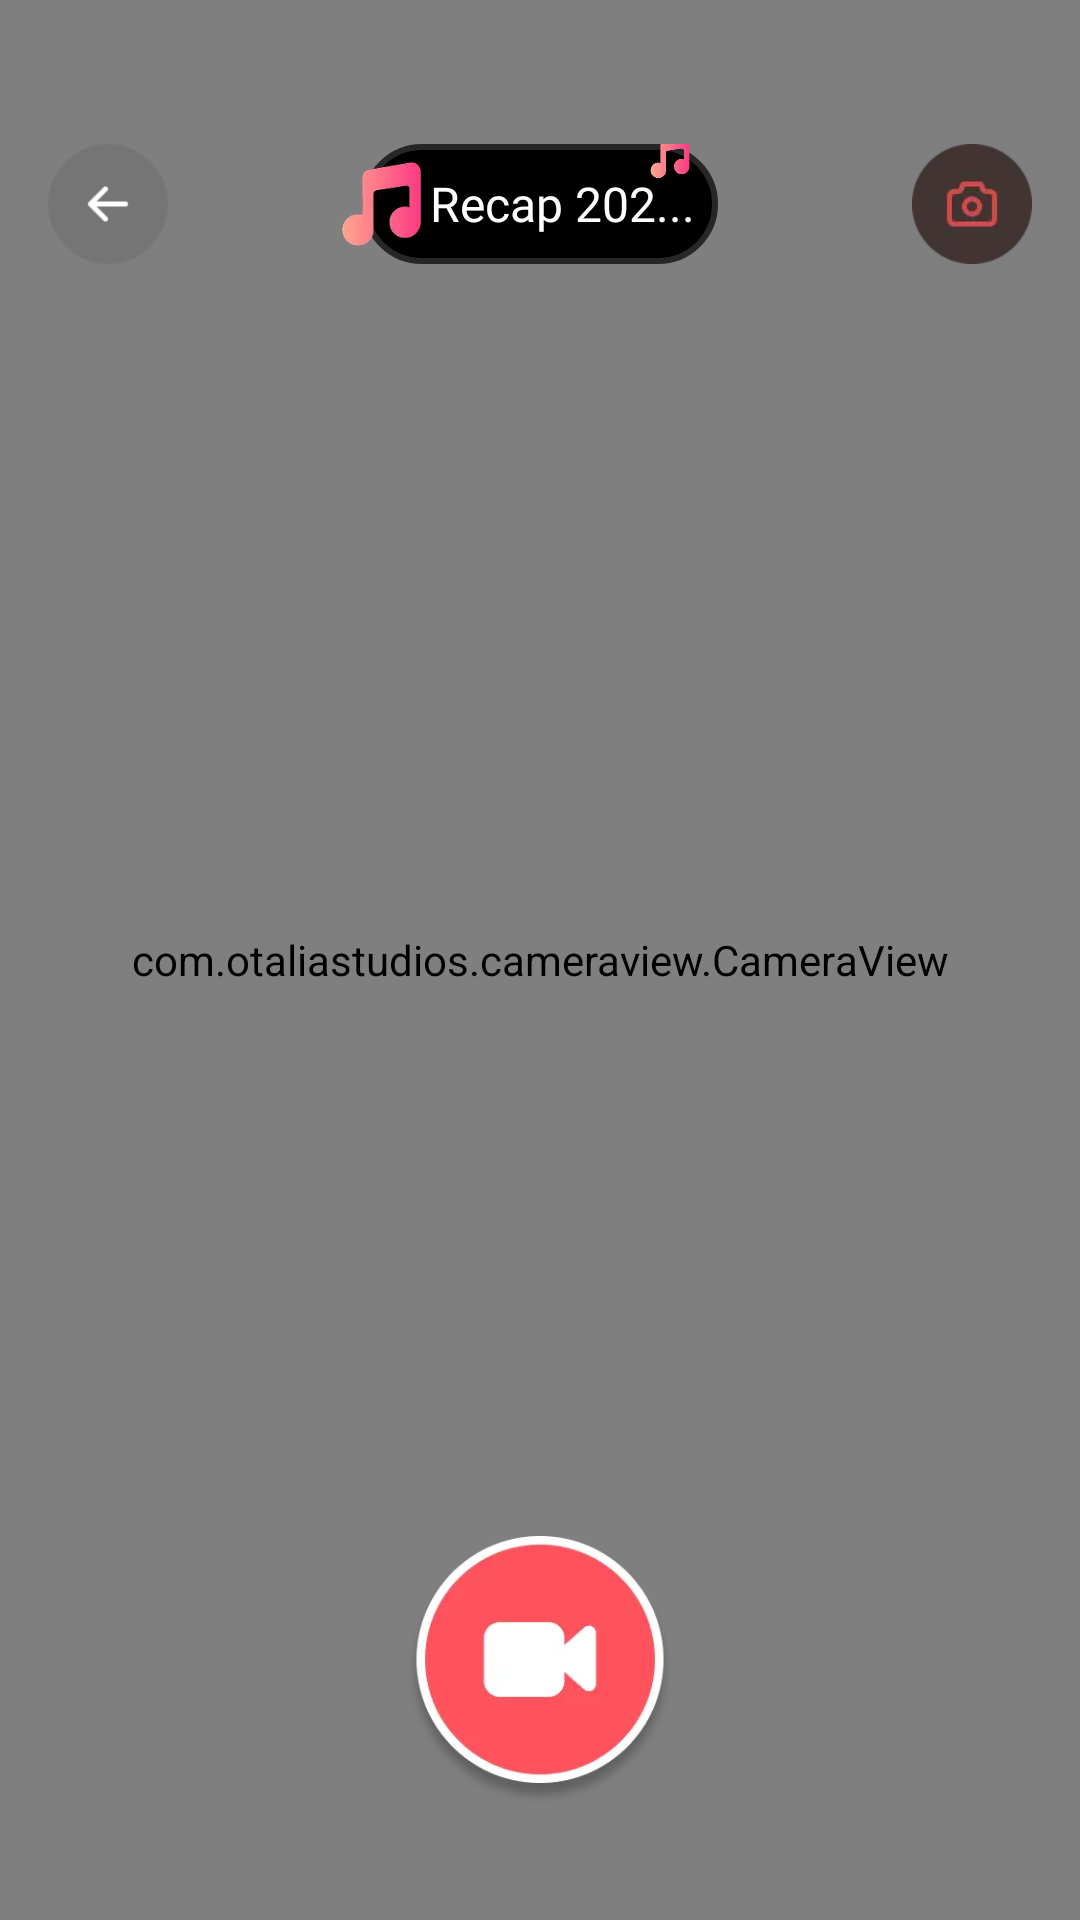

Screen size 1080w x 1920h. Icon name, then its center in pixels as [x,y]:
back: [108,204]
video record: [540,1663]
